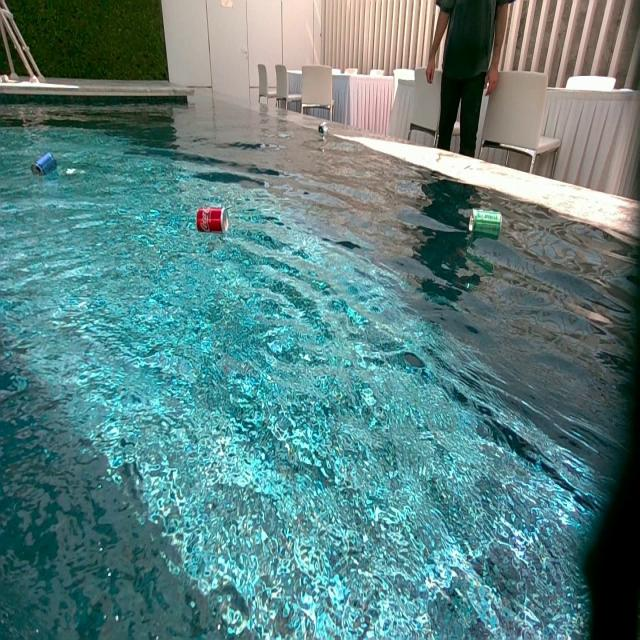Cans: (197, 206, 231, 234), (33, 154, 57, 178)
